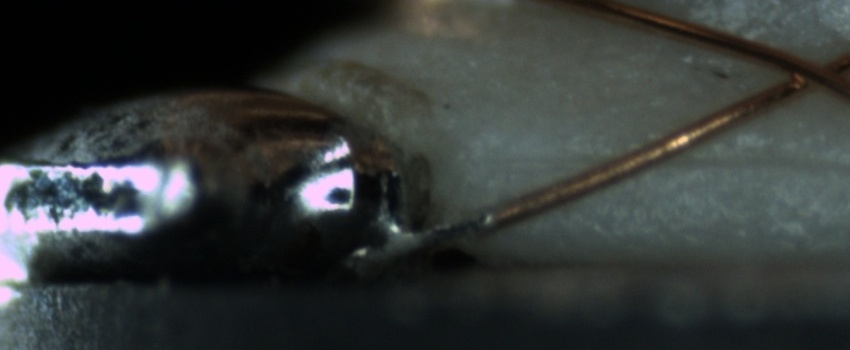CL: (762, 42, 847, 102)
DL: (487, 128, 850, 189)
TS: (363, 207, 501, 262)
TTCW: (360, 191, 546, 263)
